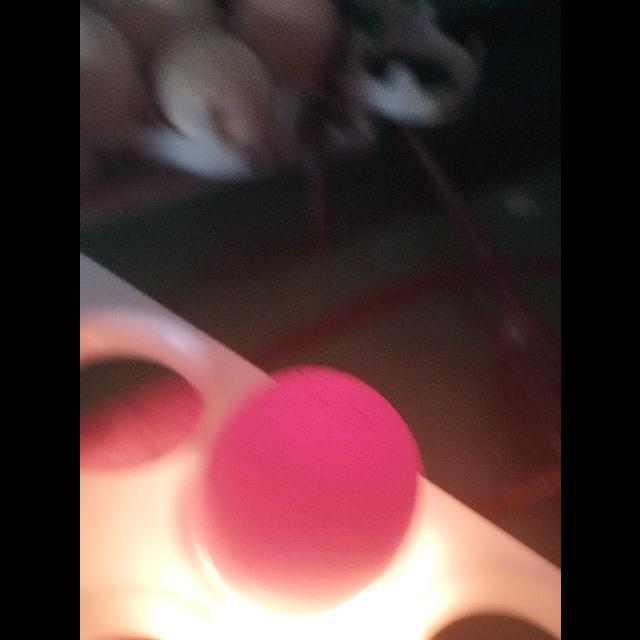Infertile: (197, 364, 423, 620)
